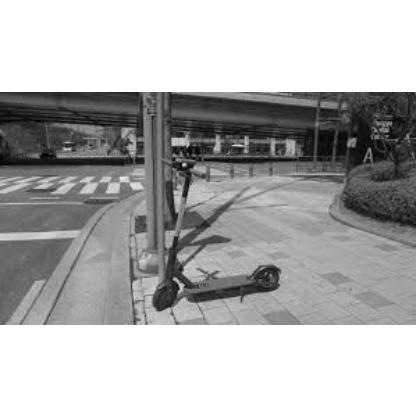bike: (151, 159, 282, 312)
car: (39, 149, 57, 160)
